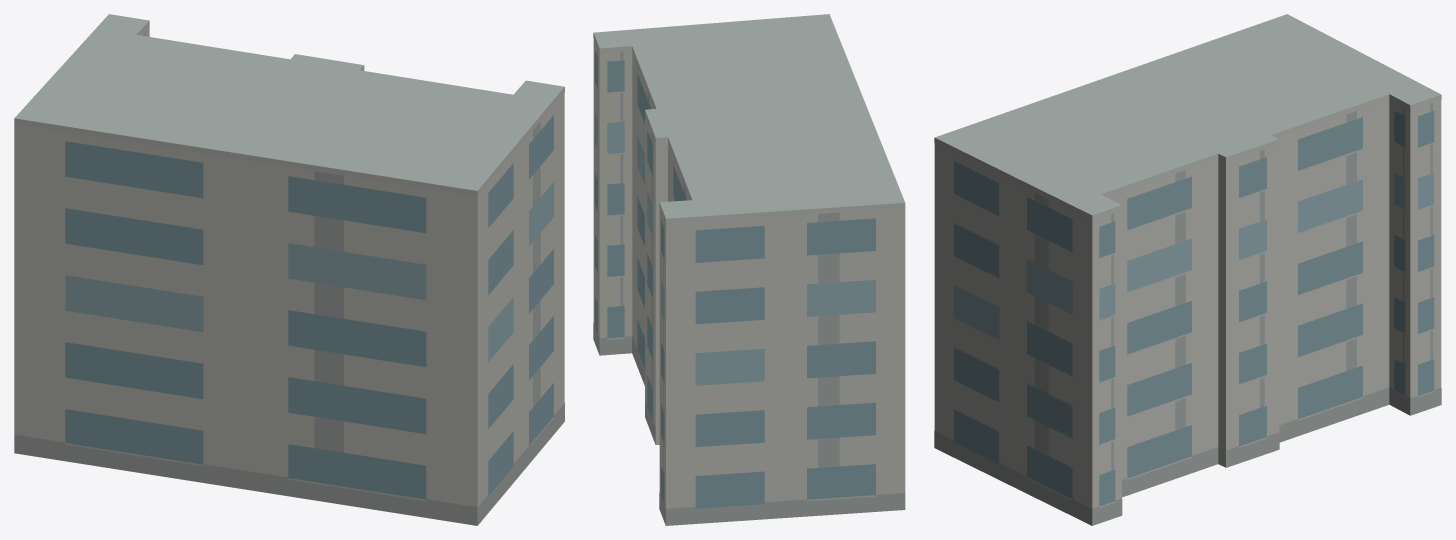
The model's file is survey-upis-32695193.glb.
The picture shows the model from 3 angles, left to right: view 1: azimuth 30°, elevation 25°; view 2: azimuth 150°, elevation 25°; view 3: azimuth 270°, elevation 25°; orthographic projection. The views are drawn at different scales.
Parts seen in each view (by area): view 1: survey-upis-32695193.tmp; view 2: survey-upis-32695193.tmp; view 3: survey-upis-32695193.tmp.
Part boxes in pixels (box(x1,y1,x2,y2)): survey-upis-32695193.tmp: box(14, 14, 564, 525); survey-upis-32695193.tmp: box(593, 14, 905, 525); survey-upis-32695193.tmp: box(934, 14, 1441, 525).
Bounding box in the file's own units: 19.48 × 14 × 20.73.
